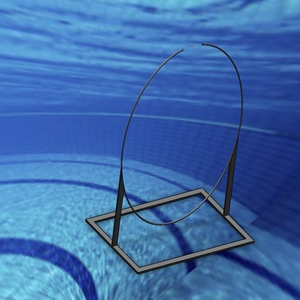circle: (88, 41, 253, 273)
